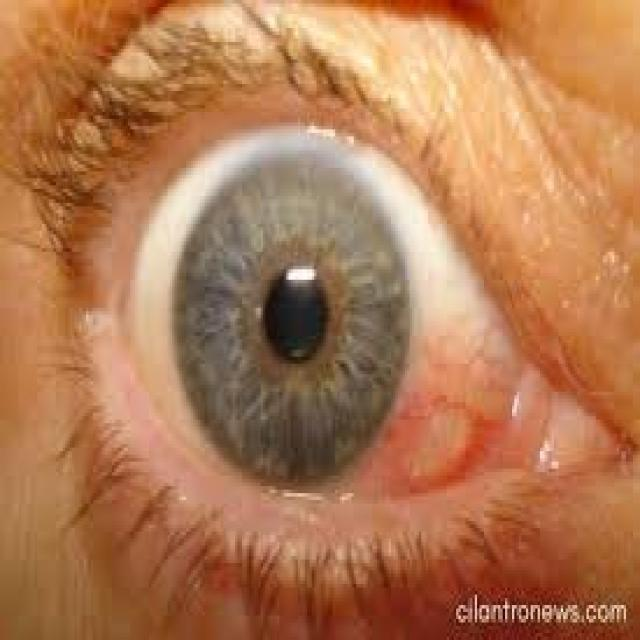Conjunctivitis: (286, 235, 640, 526)
